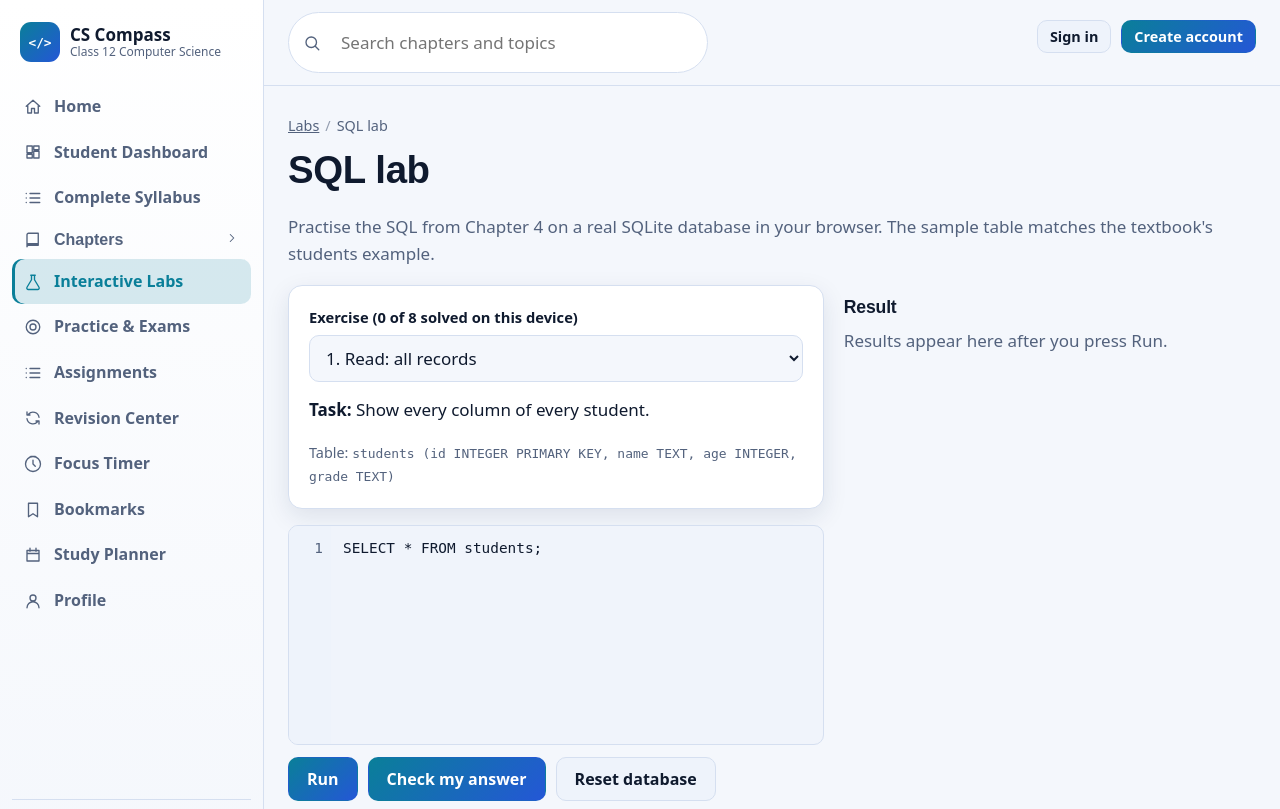
Test: labs added in the second pass › SQL lab shows the exercises, the table and the check button
The image size is (1280, 809).
Expected: the heading "SQL lab" is shown, [288,148,430,191]
Expected: the button "Check my answer" is shown, [368,757,546,801]
Step 1. Select "8. Primary key rule" in the dropdown labelled "Exercise (0 of 8 solved on this device)" → point(556, 359), box [309,335,803,382]
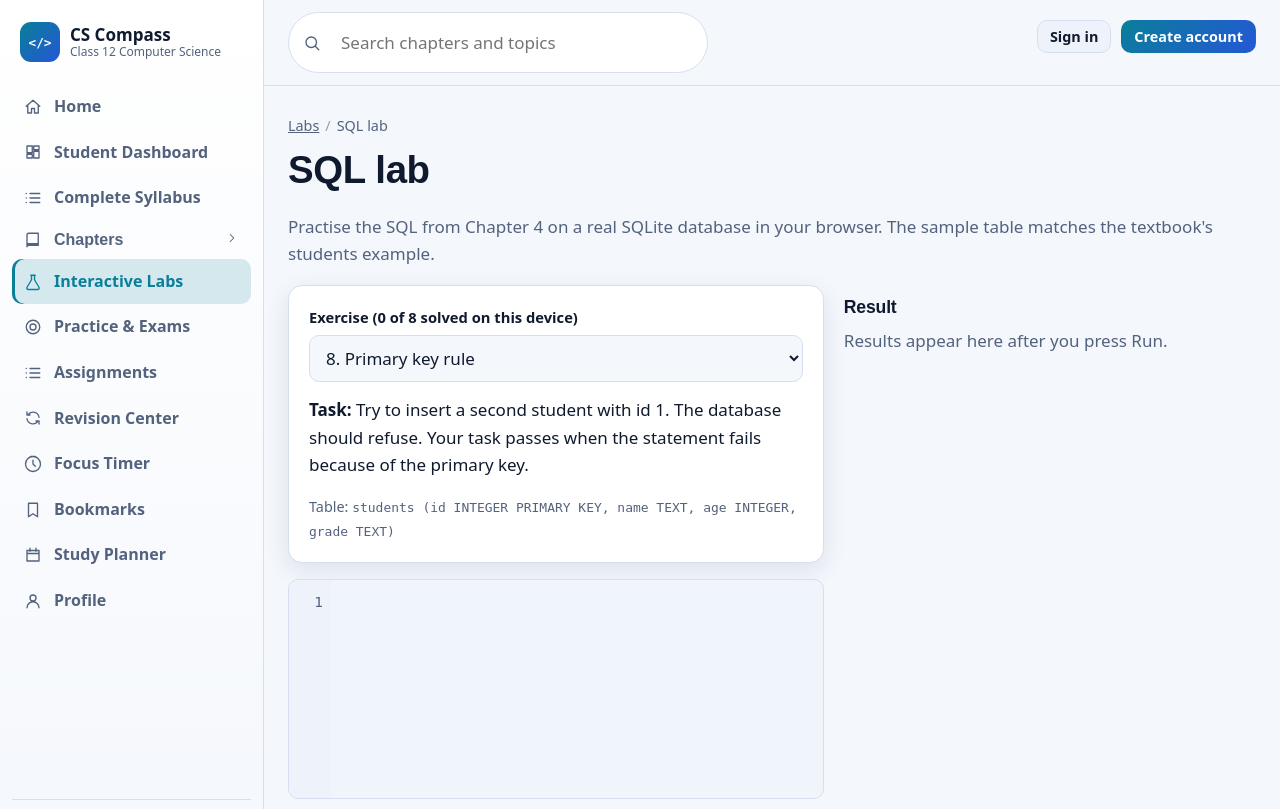
Result: the text "second student with id 1" is shown at [309,398,781,476]
